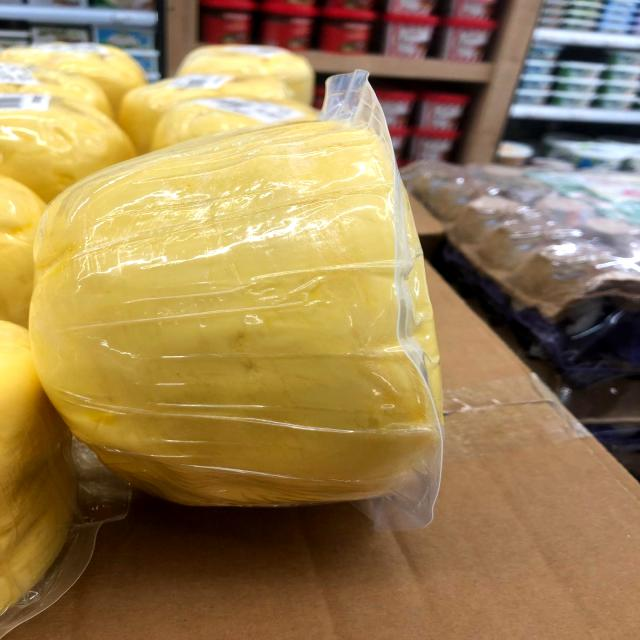cheese: (20, 89, 476, 550)
